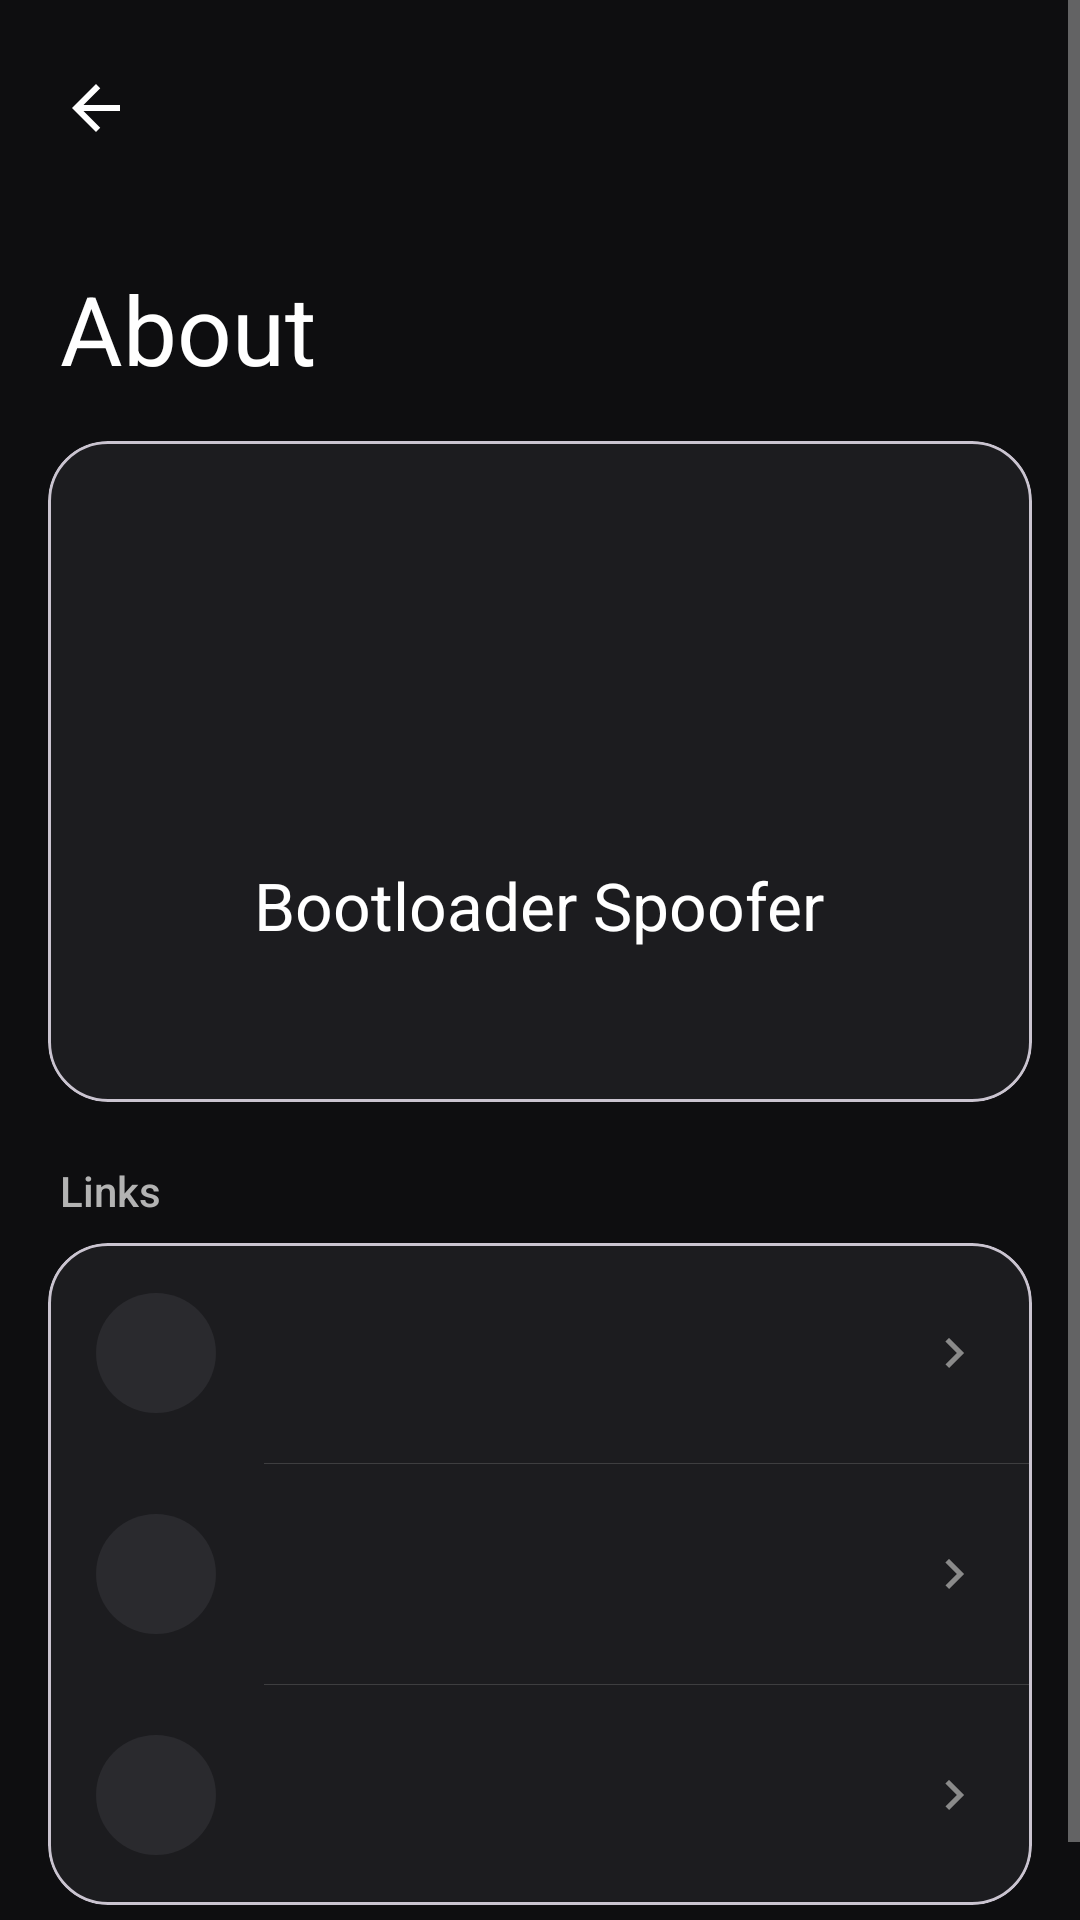

Named icons in this screenshot (1080*1920) and their bounding boxes, (x1, y1, x2, y2):
arrow back: (72, 84, 120, 132)
chevron right: (945, 1338, 964, 1368), (945, 1559, 964, 1589), (945, 1780, 964, 1810)
